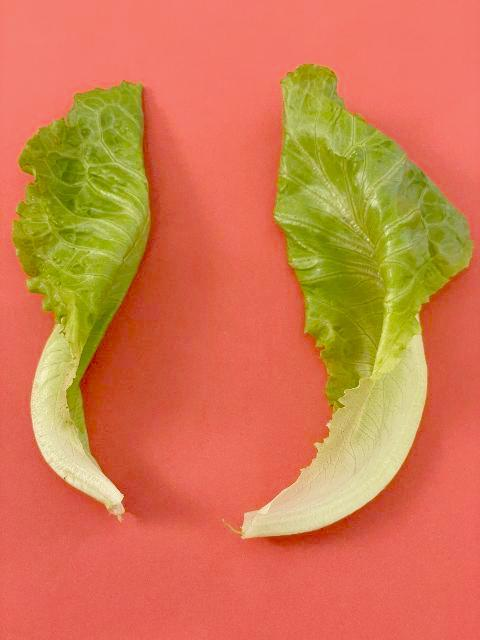lettuce: (235, 61, 473, 546), (11, 78, 153, 526)
